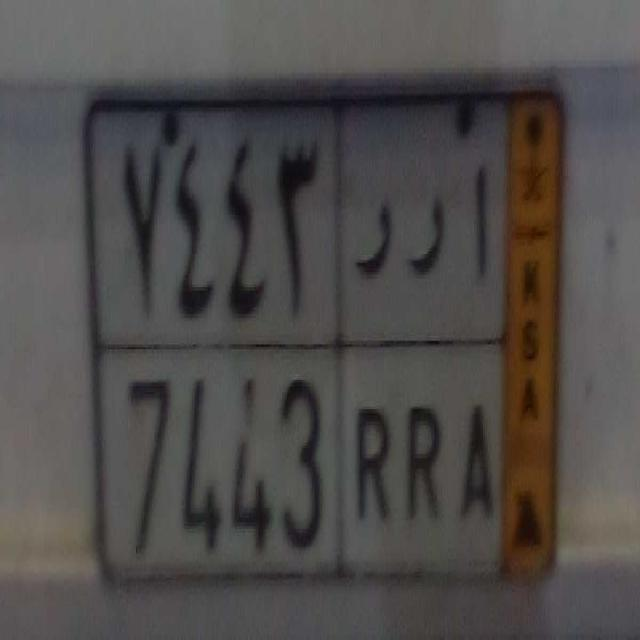license_plate: (95, 334, 505, 596)
